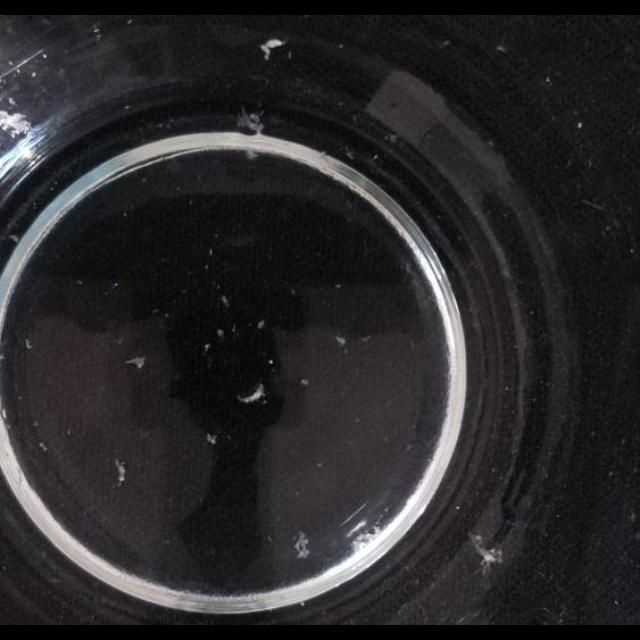Fibre: (349, 520, 385, 556), (470, 532, 502, 568), (0, 108, 30, 138), (237, 106, 265, 134), (293, 531, 311, 559), (114, 458, 126, 486), (125, 356, 146, 370), (496, 44, 506, 54), (26, 338, 34, 349)
microbeads: (259, 39, 285, 61), (220, 294, 230, 308), (206, 432, 217, 444), (334, 336, 346, 346), (202, 342, 212, 353), (38, 442, 48, 452), (216, 329, 224, 339), (257, 320, 265, 330), (300, 378, 308, 386), (544, 77, 552, 85), (152, 307, 160, 315), (208, 247, 214, 257), (334, 283, 342, 289), (316, 462, 322, 468), (268, 360, 274, 366), (577, 122, 583, 128), (455, 505, 461, 511), (31, 72, 37, 78), (42, 54, 48, 60)
